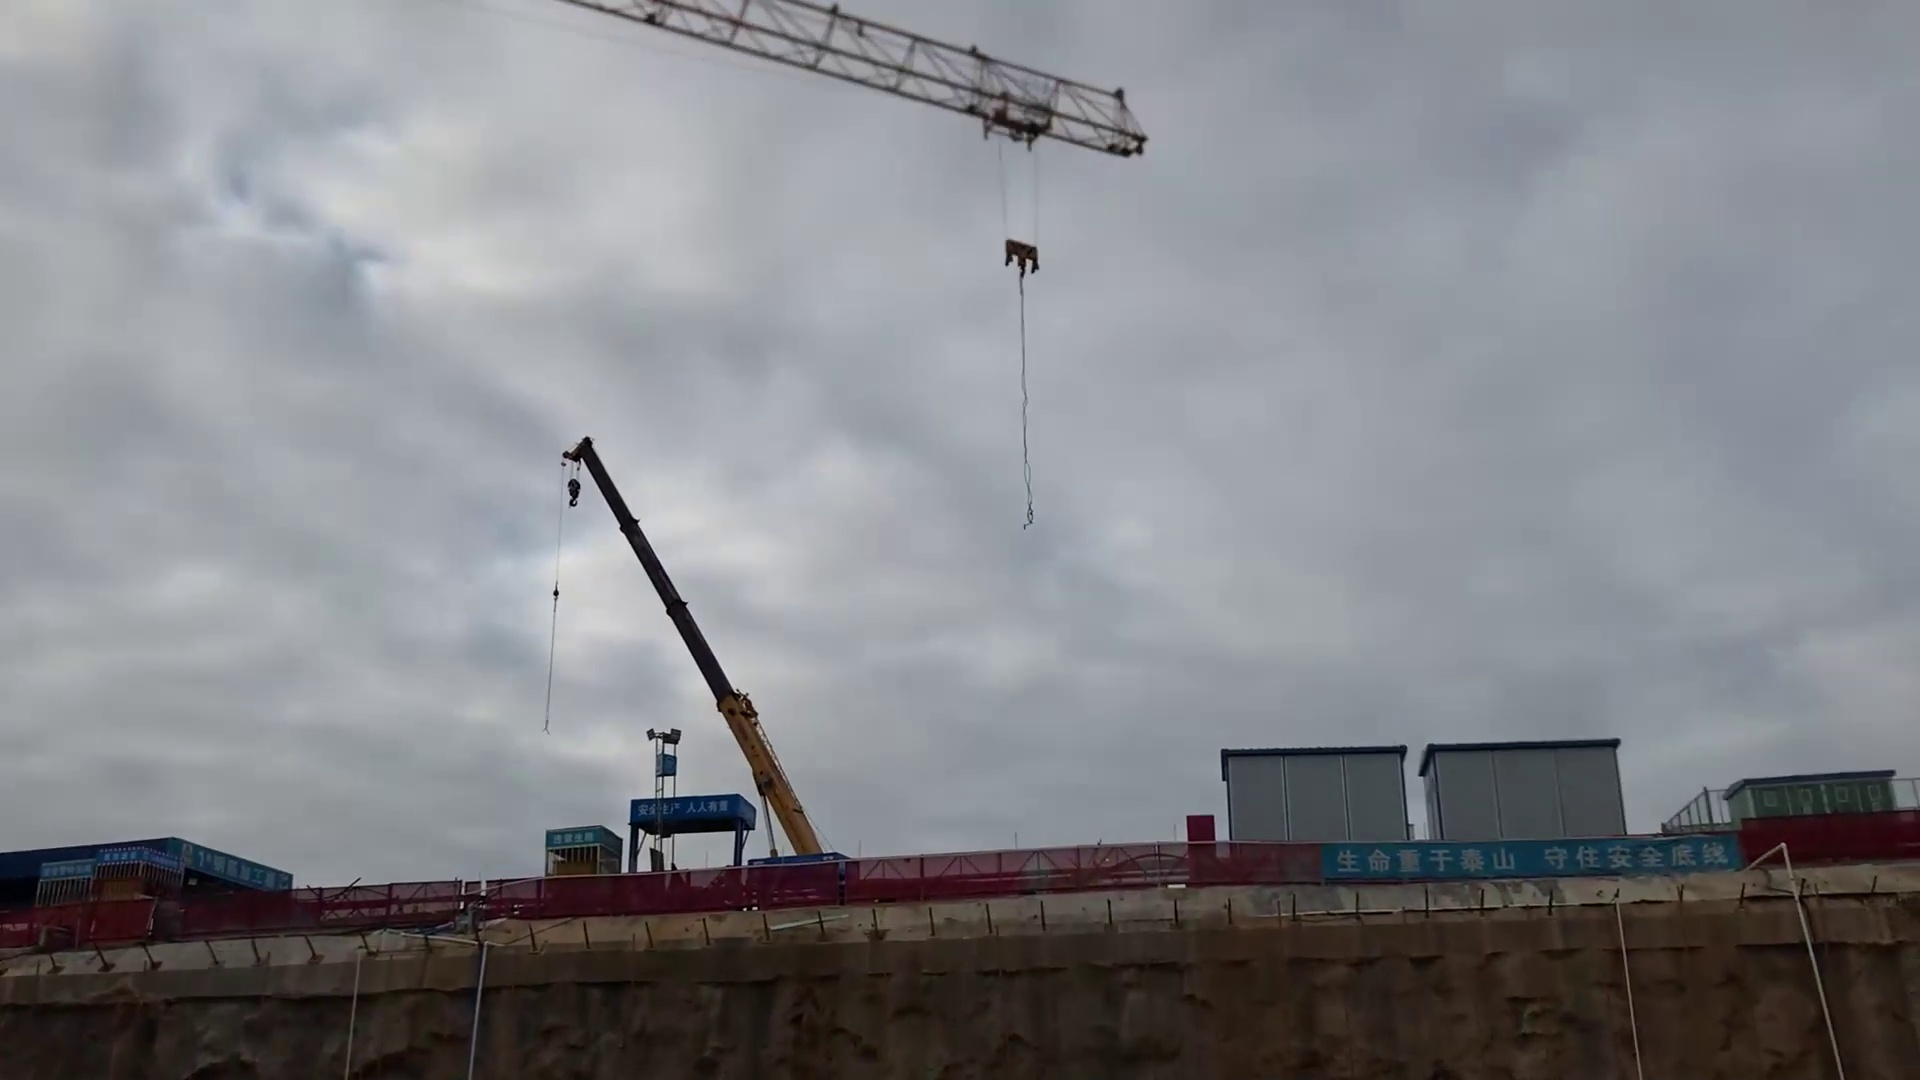fence: (15, 872, 613, 944), (615, 855, 1065, 949), (1025, 816, 1302, 920), (1760, 798, 1903, 897)
hook: (997, 233, 1052, 294), (556, 465, 587, 524)
slogan: (1311, 822, 1774, 893), (171, 827, 306, 909), (616, 783, 765, 855), (529, 808, 607, 876), (84, 840, 171, 881), (32, 851, 95, 887)
